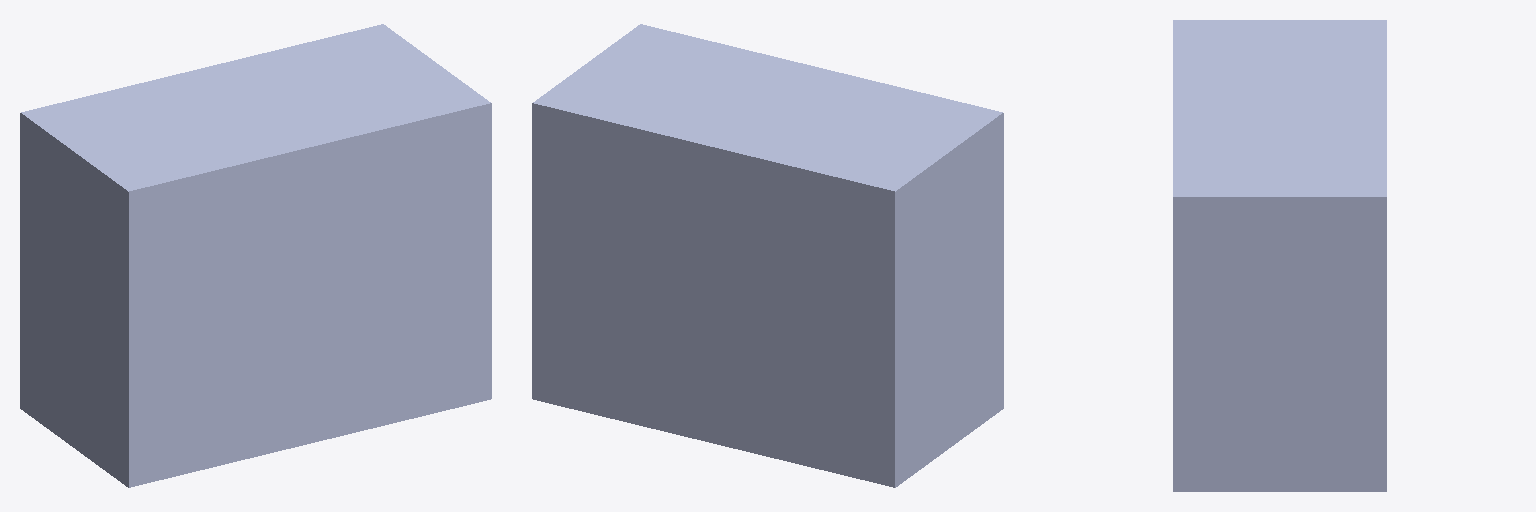
URDF robot description (square):
<?xml version="1.0" encoding="utf-8"?>
<!-- This URDF was automatically created by SolidWorks to URDF Exporter! Originally created by [author] ([email redacted]) 
     Commit Version: 1.5.1-0-g916b5db  Build Version: 1.5.7152.31018
     For more information, please see http://wiki.ros.org/sw_urdf_exporter -->
<robot
  name="square">
  <link
    name="square">
    <inertial>
      <origin
        xyz="1.3363E-18 -0.015 9.18454765366783E-19"
        rpy="0 0 0" />
      <mass
        value="0.079235" />
      <inertia
        ixx="1.9551E-05"
        ixy="8.2133E-22"
        ixz="5.02902968292467E-38"
        iyy="3.5958E-05"
        iyz="8.12408384579883E-22"
        izz="2.8292E-05" />
    </inertial>
    <visual>
      <origin
        xyz="0 0 0"
        rpy="1.5707963267949 0 0" />
      <geometry>
        <mesh
          filename="package://square/meshes/square.STL" />
      </geometry>
      <material
        name="">
        <color
          rgba="0.79216 0.81961 0.93333 1" />
        <texture
          filename="package://square/textures/" />
      </material>
    </visual>
    <collision>
      <origin
        xyz="0 0 0"
        rpy="1.5707963267949 0 0" />
      <geometry>
        <mesh
          filename="package://square/meshes/square.STL" />
      </geometry>
    </collision>
  </link>
</robot>

--- Facts derived from the render (not from the file) ---
Views: 3 orthographic renders of the robot side by side, from view 1: azimuth 30°, elevation 25°; view 2: azimuth 150°, elevation 25°; view 3: azimuth 270°, elevation 25°.
Model square with 1 links and 0 joints (none), rooted at square, posed all joints at 0.
Links seen in each view (by area): view 1: square; view 2: square; view 3: square.
Link boxes in pixels (x1,y1,x2,y2): square: (20, 24, 491, 487); square: (532, 24, 1003, 487); square: (1173, 20, 1386, 491).
Bounding box of the posed robot: 0.0582 × 0.03 × 0.0454 m (x, y, z).
1 mesh visuals loaded from 1 distinct referenced files (1 binary STL).